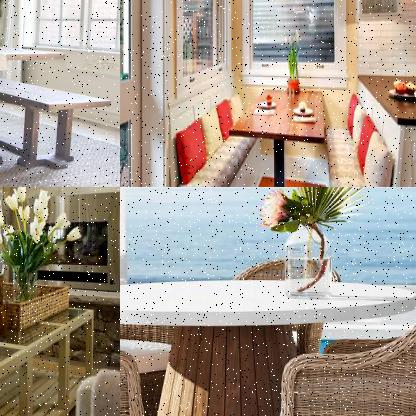table: (120, 275, 415, 415), (0, 261, 99, 415), (226, 79, 329, 186), (0, 29, 68, 186)
